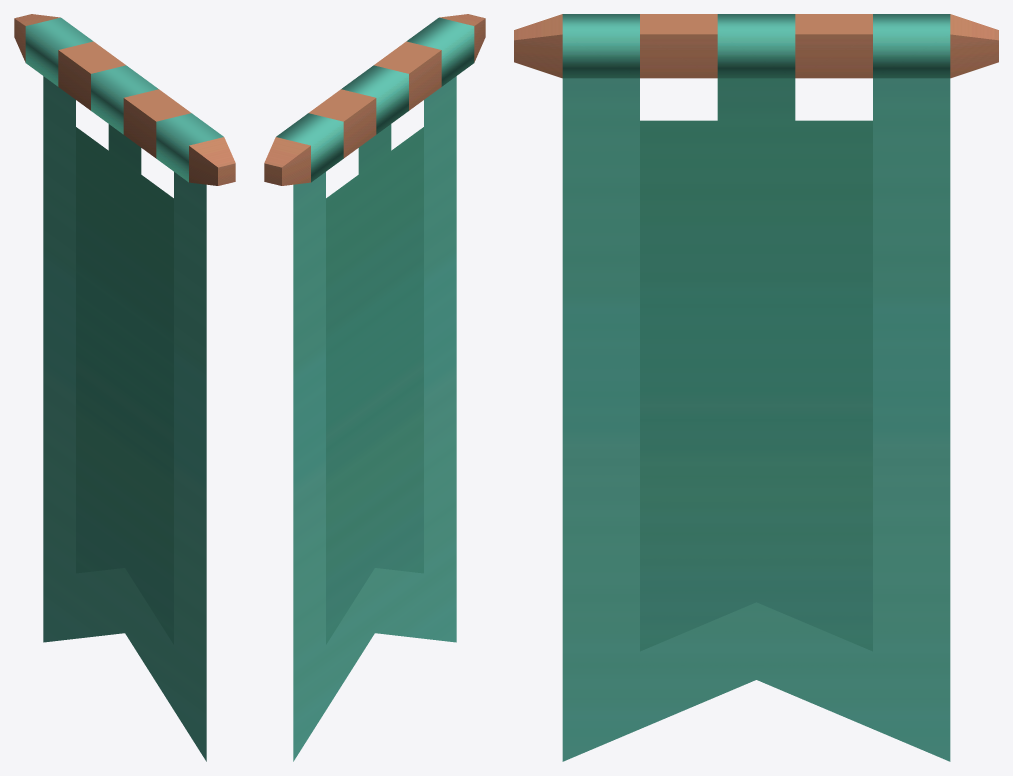
The model's file is banner-green.glb.
The picture shows the model from 3 angles, left to right: view 1: azimuth 30°, elevation 25°; view 2: azimuth 150°, elevation 25°; view 3: azimuth 270°, elevation 25°; orthographic projection. The views are drawn at different scales.
Parts seen in each view (by area): view 1: banner-green; view 2: banner-green; view 3: banner-green.
Boxes of the visible parts, bbox=[...] form: banner-green: bbox=[14, 14, 235, 761]; banner-green: bbox=[264, 14, 485, 761]; banner-green: bbox=[514, 14, 998, 761].
Bounding box in the file's own units: 0.05 × 0.8394 × 0.5.
Materials: 1 (1 with a texture image).
